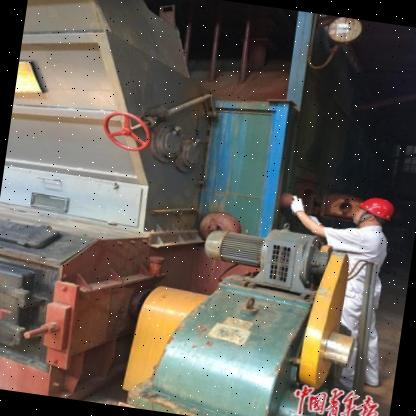capacete: (352, 194, 398, 224)
